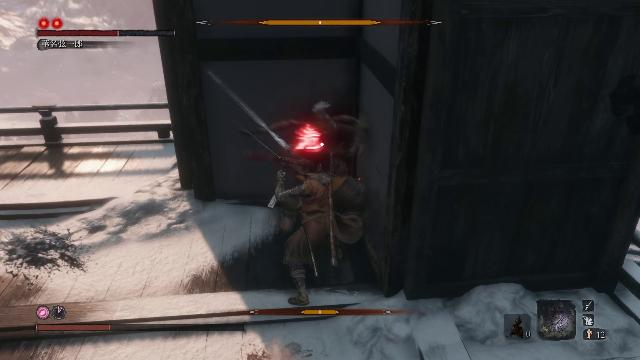sk: (273, 150, 366, 314)
